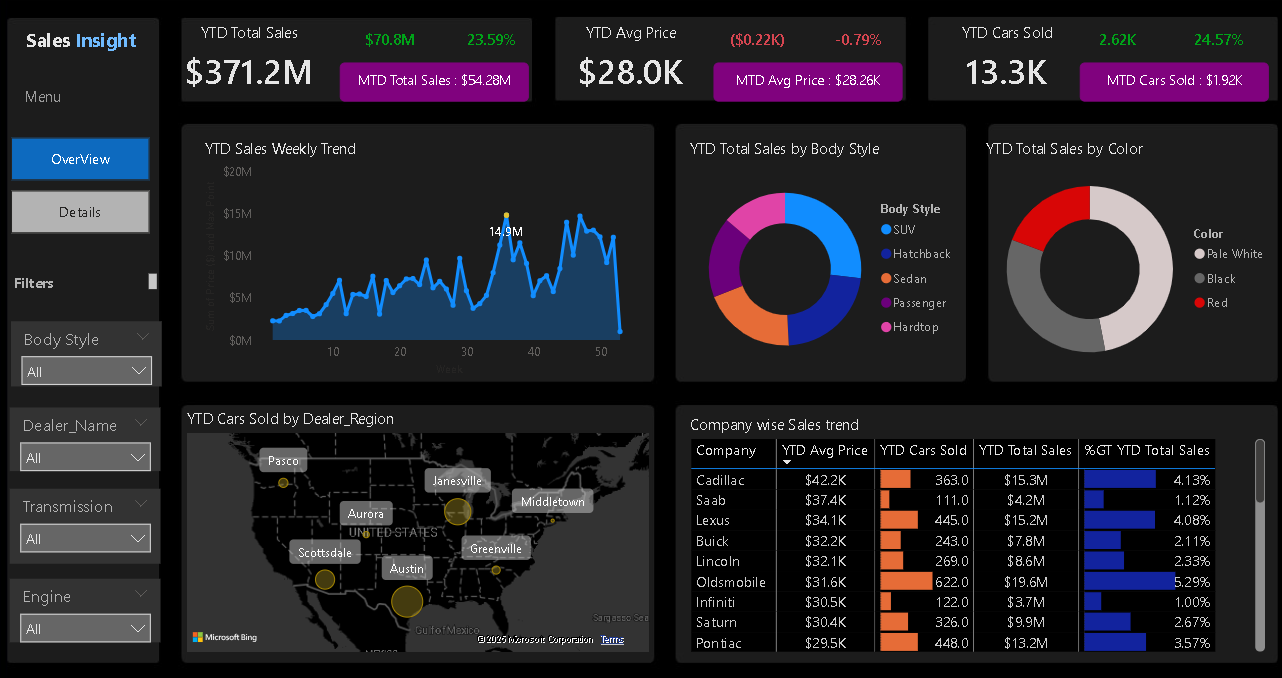

Layout of this report page (visuals, bound fields, positions):
{"tool":"powerbi","page":{"name":"OverView","canvas":[1280,720],"ordinal":0},"visuals":[{"type":"card","title":"YTD Total Sales","fields":{"Values":["car_data.YTD Total Sales"]},"box":[178.6,65.1,149.6,78.4],"z":0},{"type":"card","fields":{"Values":["car_data.Sales Difference"]},"box":[342.6,65.1,98.9,39.8],"z":1000},{"type":"card","fields":{"Values":["car_data.YoY Sales Growth"]},"box":[441.6,65.1,98.9,39.8],"z":2000},{"type":"card","fields":{"Values":["car_data.MTD KPI"]},"box":[342.6,105,185.8,38.6],"z":3000},{"type":"card","title":"YTD Avg Price","fields":{"Values":["car_data.YTD Avg Price"]},"box":[553.8,65.1,149.6,78.4],"z":4000},{"type":"card","fields":{"Values":["car_data.Avg Price Diff"]},"box":[703.4,65.1,98.9,39.8],"z":5000},{"type":"card","fields":{"Values":["car_data.YoY avg price growth"]},"box":[802.3,65.1,98.9,39.8],"z":6000},{"type":"card","fields":{"Values":["car_data.MTD Avg Price KPI"]},"box":[709.4,105,185.8,38.6],"z":7000},{"type":"card","title":"YTD Cars Sold","fields":{"Values":["car_data.YTD Cars Sold"]},"box":[922.9,65.1,149.6,78.4],"z":8000},{"type":"card","fields":{"Values":["car_data.Cars sold Diff"]},"box":[1056.8,65.1,98.9,39.8],"z":9000},{"type":"card","fields":{"Values":["car_data.YoY cars sold growth"]},"box":[1155.8,65.1,98.9,39.8],"z":10000},{"type":"card","fields":{"Values":["car_data.MTD Cars Sold KPI"]},"box":[1068.9,105,185.8,38.6],"z":11000},{"type":"areaChart","title":"YTD Sales Weekly Trend","fields":{"Category":["Calendar Table.Week"],"Y":["Sum(car_data.Price ($))","car_data.Max Point"]},"box":[205.1,178.6,434.3,238.9],"z":12000},{"type":"donutChart","fields":{"Category":["car_data.Body Style"],"Y":["car_data.YTD Total Sales"]},"box":[680.4,178.6,276.3,238.9],"z":13000},{"type":"donutChart","fields":{"Category":["car_data.Color","car_data.Body Style"],"Y":["car_data.YTD Total Sales"]},"box":[972.4,178.6,292,238.9],"z":14000},{"type":"map","fields":{"Category":["car_data.Dealer_Region"],"Size":["car_data.YTD Cars Sold"]},"box":[188.2,444,463.3,244.9],"z":15000},{"type":"tableEx","title":"Company wise Sales trend","fields":{"Values":["car_data.Company","car_data.YTD Avg Price","car_data.YTD Cars Sold","car_data.YTD Total Sales1","car_data.YTD Total Sales"]},"box":[680.4,450,574.3,238.9],"z":16000},{"type":"textbox","box":[409,0,523.6,43.4],"z":17000},{"type":"slicer","fields":{"Values":["car_data.Body Style"]},"box":[19.3,359.5,148.4,63.9],"z":18000},{"type":"slicer","fields":{"Values":["car_data.Dealer_Name"]},"box":[18.1,444,148.4,62.7],"z":19000},{"type":"slicer","fields":{"Values":["car_data.Engine"]},"box":[18.1,612.9,148.4,62.7],"z":20000},{"type":"slicer","fields":{"Values":["car_data.Transmission"]},"box":[18.1,523.6,148.4,73.6],"z":21000},{"type":"textbox","box":[16.9,307.6,150.8,26.5],"z":22000},{"type":"pageNavigator","box":[19.3,178.6,136.3,95.3],"z":23000},{"type":"textbox","box":[29,65.1,149.6,84.5],"z":23001},{"type":"textbox","box":[27.7,124.3,300.4,33.8],"z":23002}]}

Visuals, with their boxes on the page's 1280x720 design canvas (x1, y1, x2, y2). These are canvas units, not pixel positions in the 1282x678 screenshot, which may show the page scaled, cropped or inside an application window:
"YTD Total Sales" card: pyautogui.locateOnScreen(179, 65, 328, 144)
card - car_data.Sales Difference: pyautogui.locateOnScreen(343, 65, 442, 105)
card - car_data.YoY Sales Growth: pyautogui.locateOnScreen(442, 65, 540, 105)
card - car_data.MTD KPI: pyautogui.locateOnScreen(343, 105, 528, 144)
"YTD Avg Price" card: pyautogui.locateOnScreen(554, 65, 703, 144)
card - car_data.Avg Price Diff: pyautogui.locateOnScreen(703, 65, 802, 105)
card - car_data.YoY avg price growth: pyautogui.locateOnScreen(802, 65, 901, 105)
card - car_data.MTD Avg Price KPI: pyautogui.locateOnScreen(709, 105, 895, 144)
"YTD Cars Sold" card: pyautogui.locateOnScreen(923, 65, 1072, 144)
card - car_data.Cars sold Diff: pyautogui.locateOnScreen(1057, 65, 1156, 105)
card - car_data.YoY cars sold growth: pyautogui.locateOnScreen(1156, 65, 1255, 105)
card - car_data.MTD Cars Sold KPI: pyautogui.locateOnScreen(1069, 105, 1255, 144)
"YTD Sales Weekly Trend" areaChart: pyautogui.locateOnScreen(205, 179, 639, 418)
donutChart - car_data.Body Style x car_data.YTD Total Sales: pyautogui.locateOnScreen(680, 179, 957, 418)
donutChart - car_data.Color x car_data.Body Style: pyautogui.locateOnScreen(972, 179, 1264, 418)
map - car_data.Dealer_Region x car_data.YTD Cars Sold: pyautogui.locateOnScreen(188, 444, 652, 689)
"Company wise Sales trend" tableEx: pyautogui.locateOnScreen(680, 450, 1255, 689)
textbox: pyautogui.locateOnScreen(409, 0, 933, 43)
slicer - car_data.Body Style: pyautogui.locateOnScreen(19, 360, 168, 423)
slicer - car_data.Dealer_Name: pyautogui.locateOnScreen(18, 444, 166, 507)
slicer - car_data.Engine: pyautogui.locateOnScreen(18, 613, 166, 676)
slicer - car_data.Transmission: pyautogui.locateOnScreen(18, 524, 166, 597)
textbox: pyautogui.locateOnScreen(17, 308, 168, 334)
pageNavigator: pyautogui.locateOnScreen(19, 179, 156, 274)
textbox: pyautogui.locateOnScreen(29, 65, 179, 150)
textbox: pyautogui.locateOnScreen(28, 124, 328, 158)
